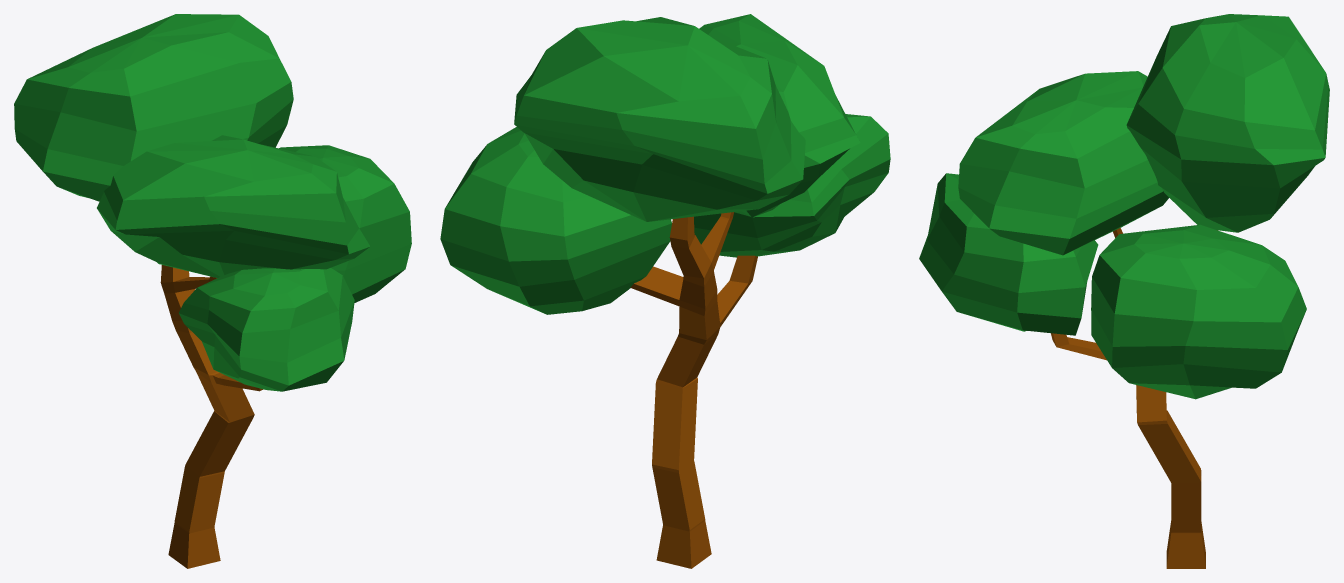
File: tree_1.fbx
The picture shows the model from 3 angles, left to right: view 1: azimuth 30°, elevation 25°; view 2: azimuth 150°, elevation 25°; view 3: azimuth 270°, elevation 25°; orthographic projection. The views are drawn at different scales.
Parts seen in each view (by area): view 1: leaves, trunk; view 2: leaves, trunk; view 3: leaves, trunk.
Part boxes in pixels (<box>): leaves: <box>14,14,411,391</box>; trunk: <box>160,265,263,568</box>; leaves: <box>440,14,890,314</box>; trunk: <box>630,212,757,568</box>; leaves: <box>919,14,1329,399</box>; trunk: <box>1051,228,1205,568</box>.
Bounding box in the file's own units: 1501 × 2214 × 1565.
